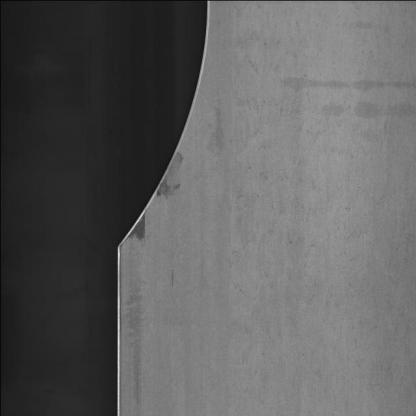crescent_gap: (112, 0, 231, 256)
